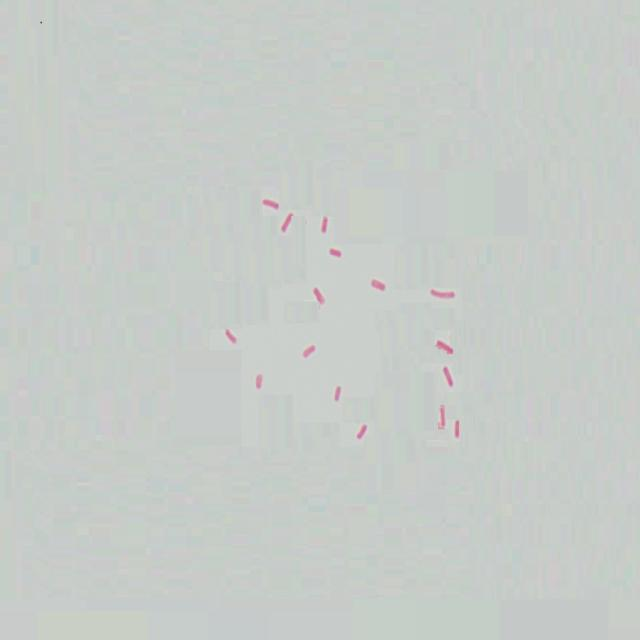E-coli: (426, 283, 457, 301), (435, 334, 456, 358), (367, 272, 388, 296), (253, 368, 267, 396), (224, 327, 240, 351), (311, 286, 327, 310), (332, 381, 347, 406), (259, 194, 281, 211), (278, 212, 295, 232), (442, 362, 455, 388), (436, 404, 449, 428), (452, 412, 462, 443), (354, 422, 368, 444), (300, 341, 317, 359), (319, 214, 332, 233), (328, 245, 342, 261)
